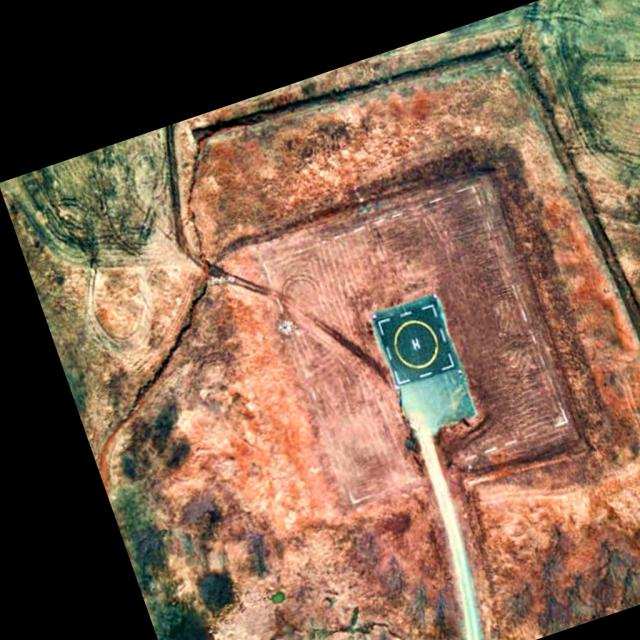helipad: (390, 317, 440, 370)
